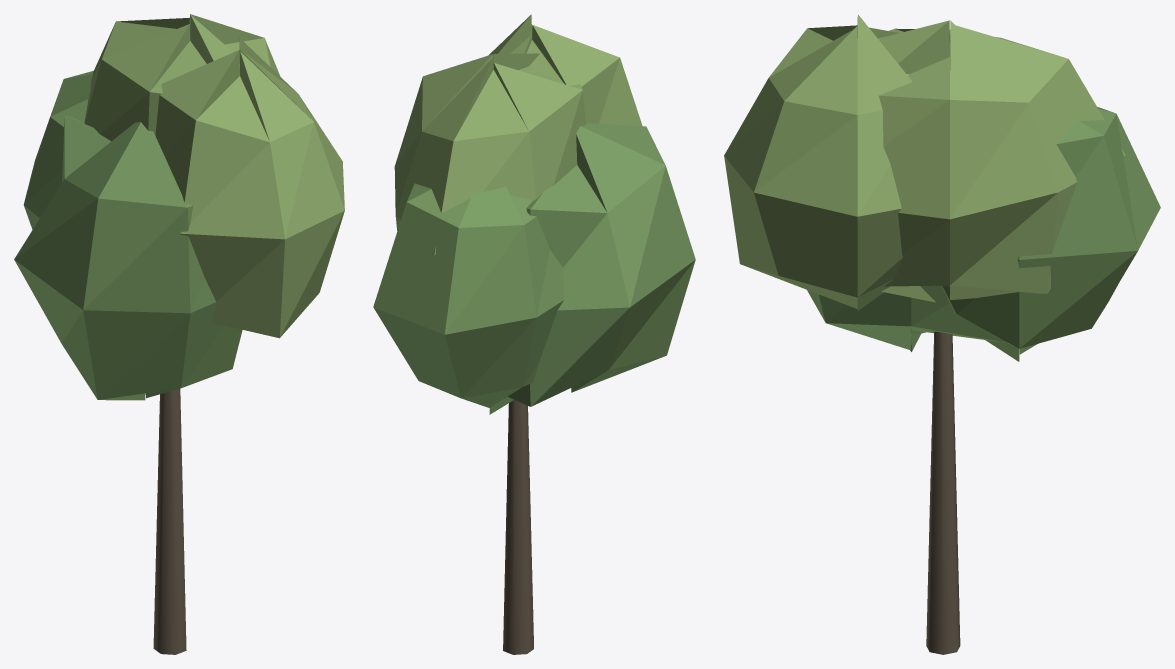
File: oak_tree_variant_02_lod1.glb
The picture shows the model from 3 angles, left to right: view 1: azimuth 30°, elevation 25°; view 2: azimuth 150°, elevation 25°; view 3: azimuth 270°, elevation 25°; orthographic projection. The views are drawn at different scales.
Visible parts, largest first — view 1: static_leaf_light, static_leaf_oak, trunk; view 2: static_leaf_oak, static_leaf_light, trunk; view 3: static_leaf_light, static_leaf_oak, trunk.
Part boxes in pixels (box(x1,y1,x2,y2)): static_leaf_light: box(84, 14, 344, 338); static_leaf_oak: box(14, 70, 242, 400); trunk: box(153, 388, 186, 654); static_leaf_oak: box(373, 123, 695, 414); static_leaf_light: box(394, 14, 642, 255); trunk: box(503, 400, 533, 654); static_leaf_light: box(724, 14, 1125, 310); static_leaf_oak: box(807, 107, 1160, 361); trunk: box(926, 331, 960, 654).
Size of the model in its own units: 3.62 by 8.18 by 5.01.
